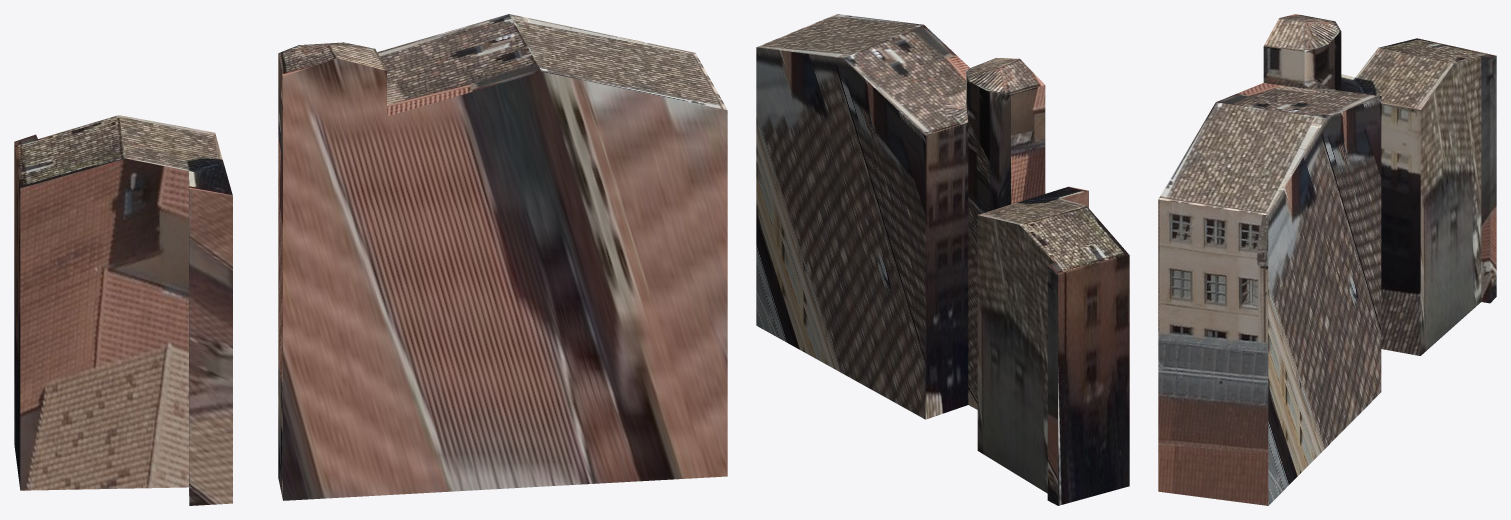
The picture shows the model from 3 angles, left to right: view 1: azimuth 30°, elevation 25°; view 2: azimuth 150°, elevation 25°; view 3: azimuth 270°, elevation 25°; orthographic projection. The views are drawn at different scales.
Parts seen in each view (by area): view 1: Z_UP; view 2: Z_UP; view 3: Z_UP.
Part boxes in pixels (x1,y1,x2,y2): Z_UP: (14, 14, 727, 505); Z_UP: (756, 14, 1129, 505); Z_UP: (1158, 14, 1496, 505).
Size of the model in its own units: 29.74 by 21.48 by 18.78.
2 materials, 1 textured.
